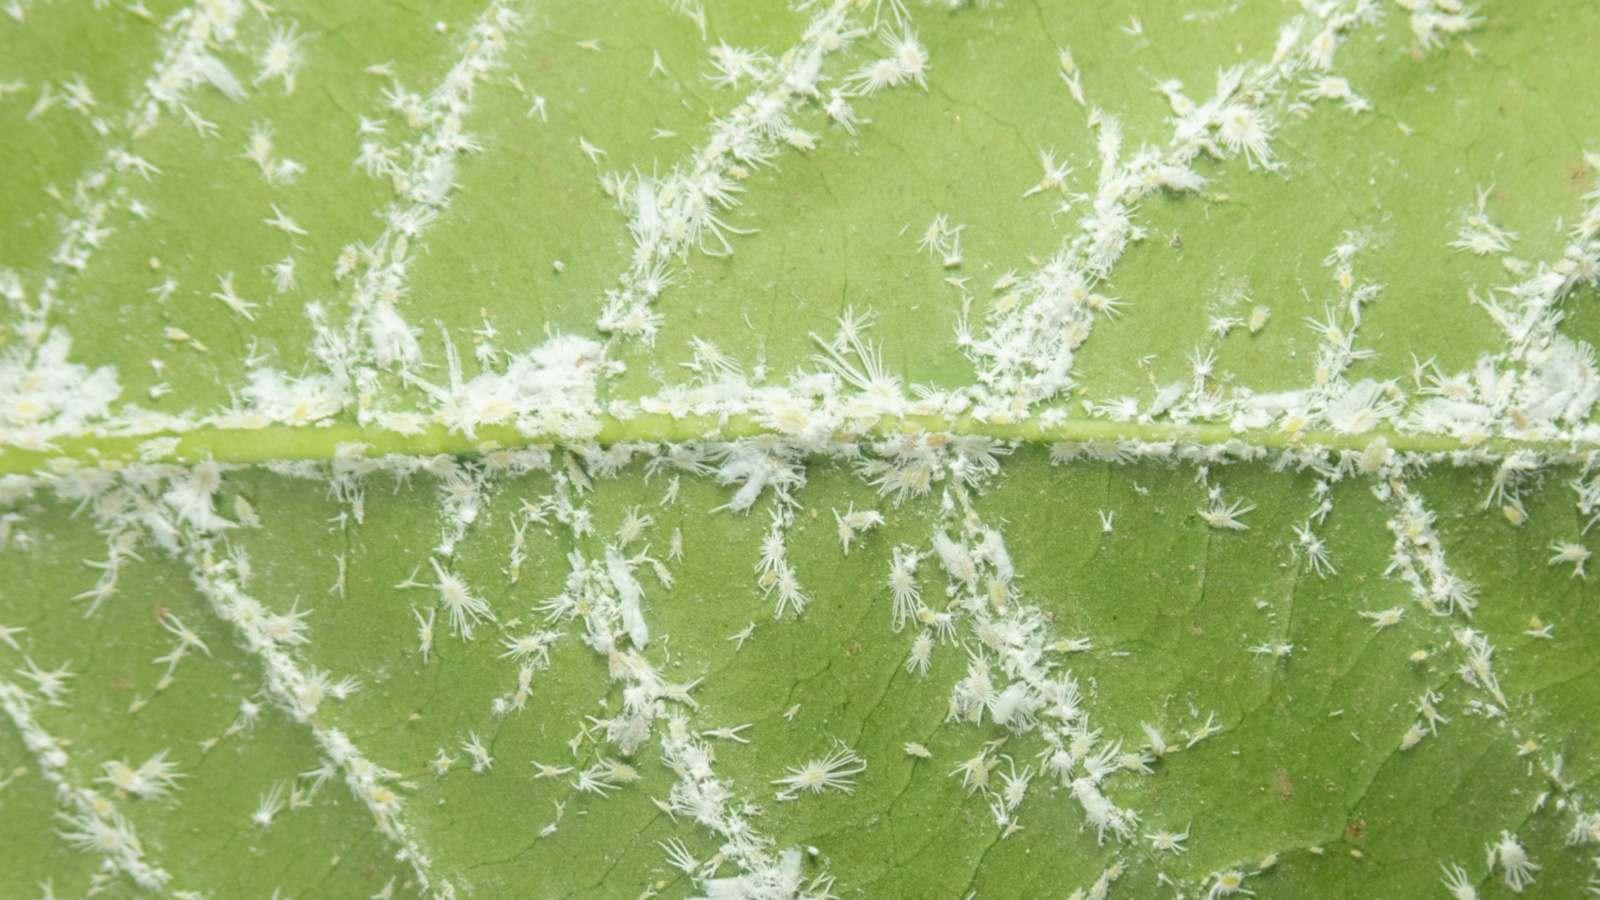pseudococcidae: (2, 3, 1599, 899)
